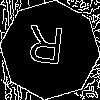R: (25, 25, 66, 74)
